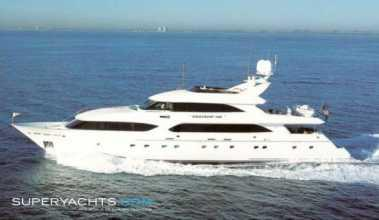yacht: (15, 56, 356, 160)
